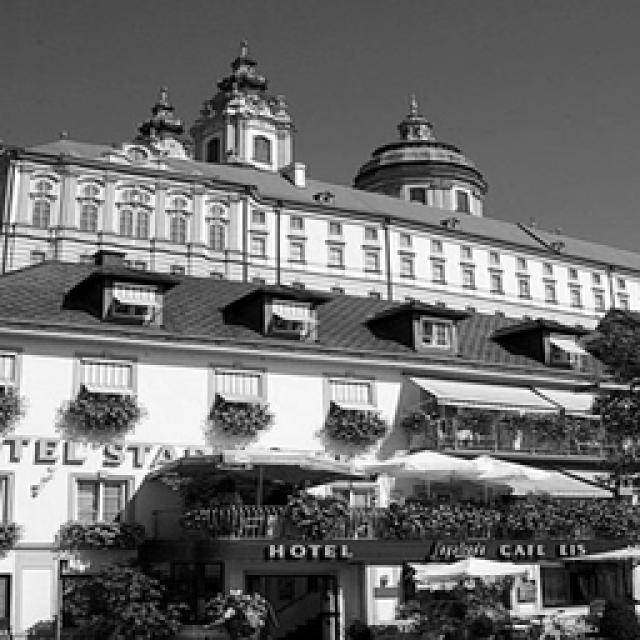Abbey: (11, 33, 640, 624)
